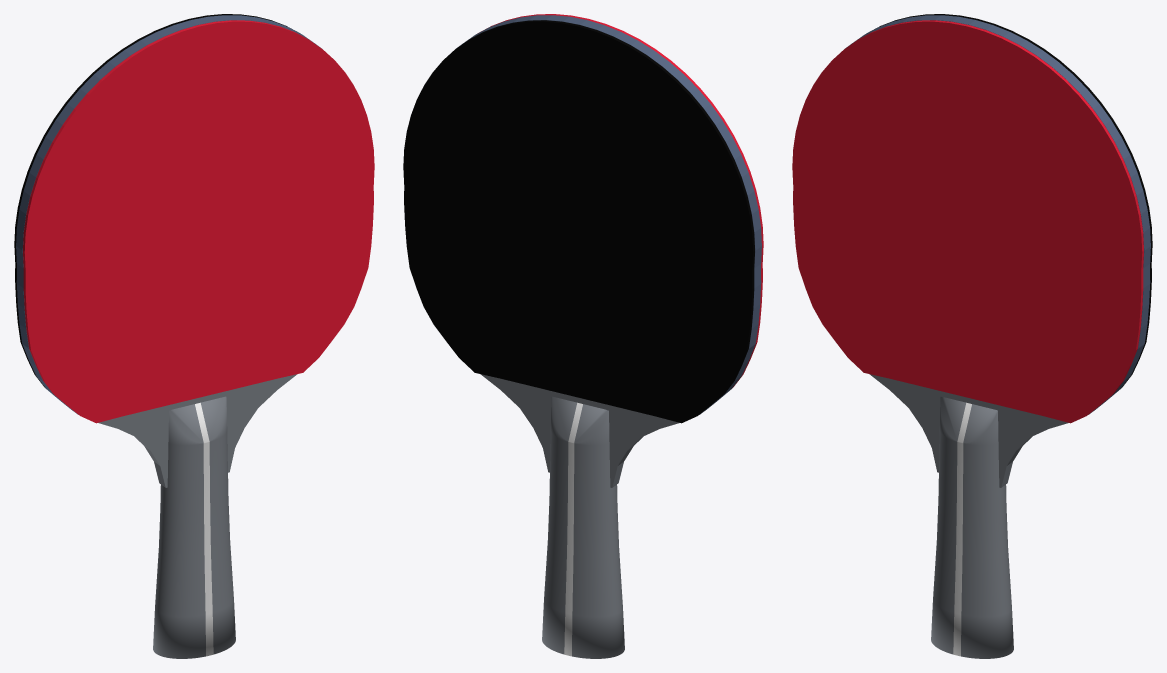
The model's file is racket.fbx.
The picture shows the model from 3 angles, left to right: view 1: azimuth 30°, elevation 25°; view 2: azimuth 150°, elevation 25°; view 3: azimuth 330°, elevation 25°; orthographic projection.
Parts seen in each view (by area): view 1: Racket; view 2: Racket; view 3: Racket.
Part boxes in pixels (box(x1,y1,x2,y2)): Racket: box(14, 14, 374, 658); Racket: box(403, 14, 763, 658); Racket: box(792, 14, 1152, 658).
Bounding box in the file's own units: 2 × 3.4 × 0.3062.
